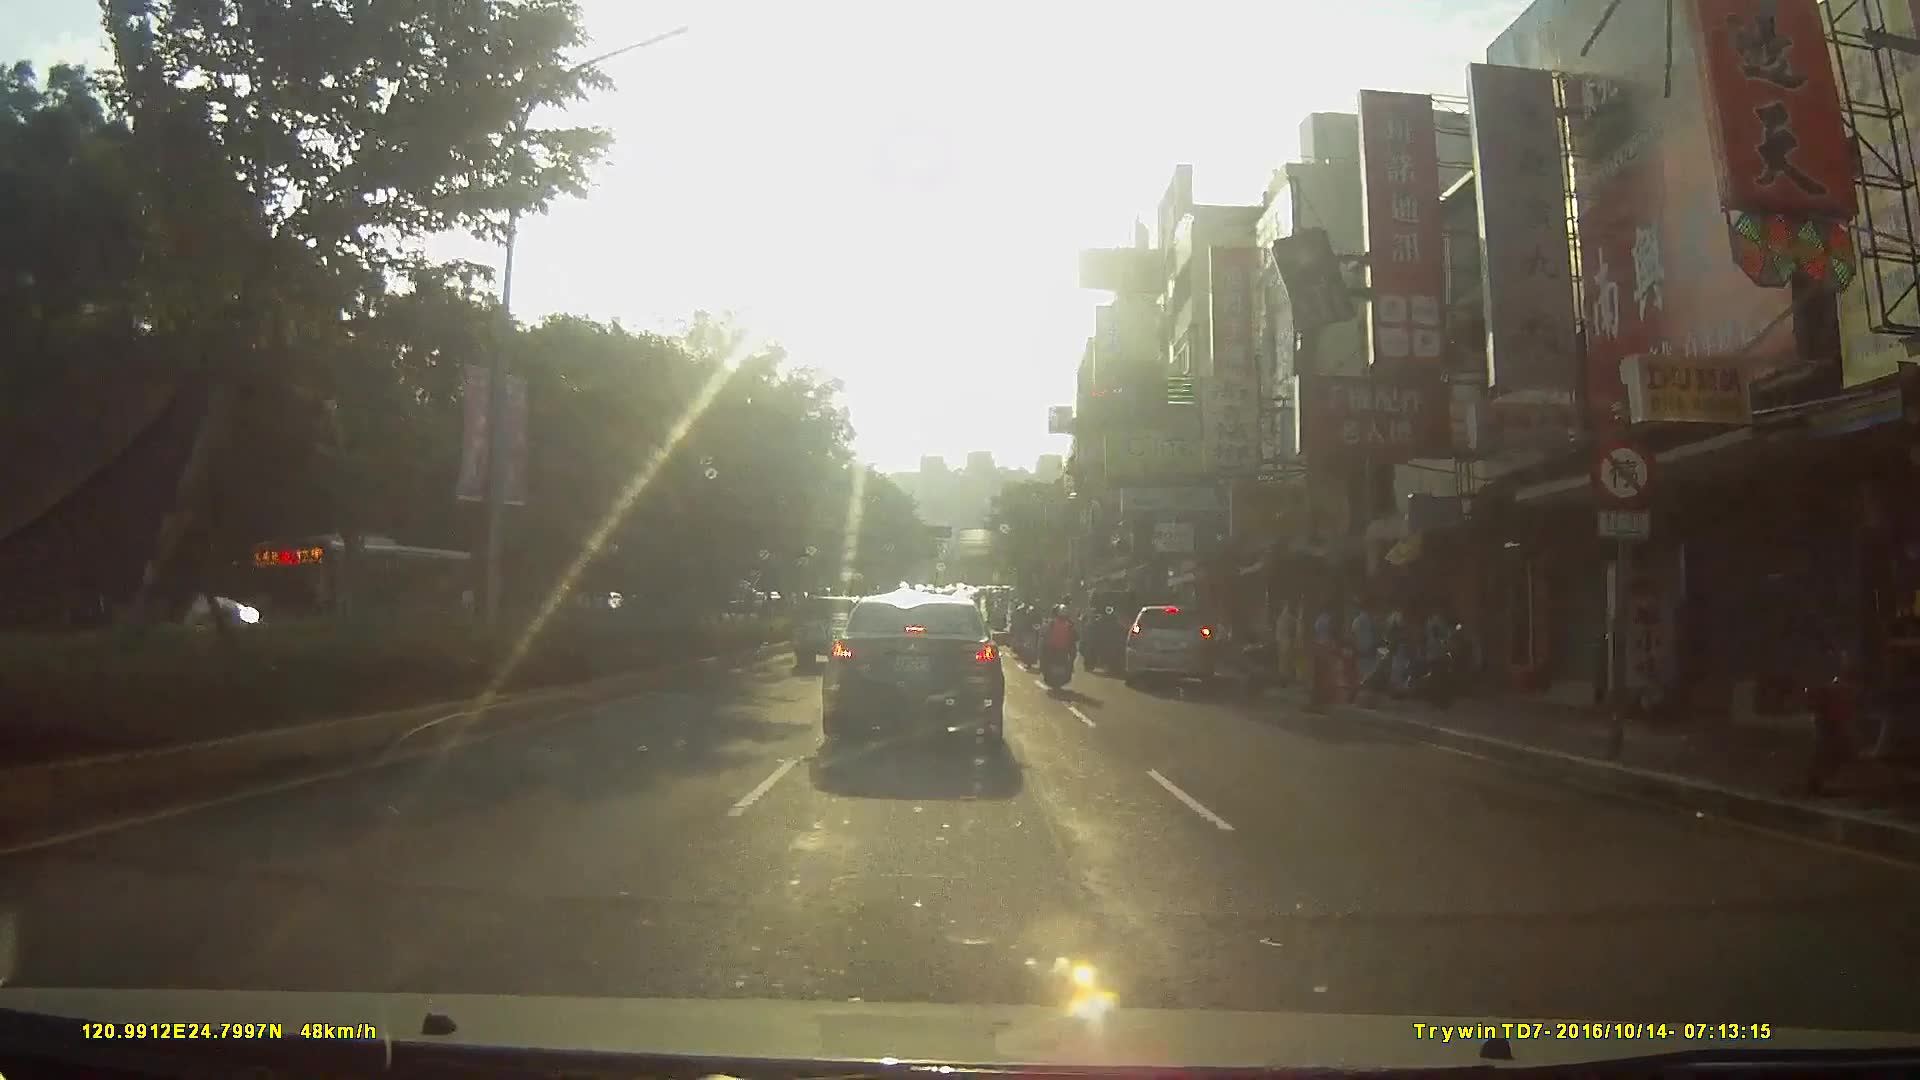pedestrian: (1387, 596, 1407, 659)
rider: (1042, 599, 1086, 697), (1017, 602, 1043, 669)
vehicle: (821, 588, 1030, 765), (237, 528, 475, 663), (1127, 599, 1226, 691), (1077, 577, 1164, 673)
